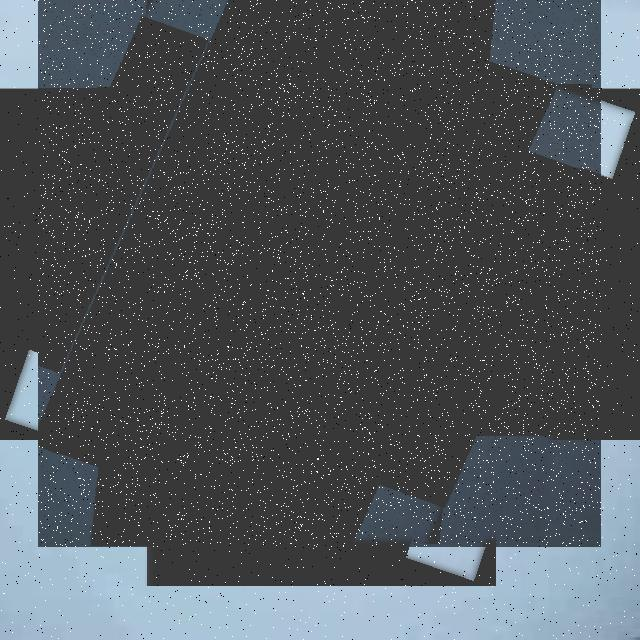dua ribu rupiah: (38, 0, 601, 547)
